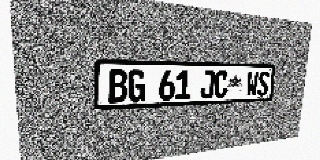1: (175, 70, 191, 100)
6: (159, 70, 175, 101)
B: (108, 69, 127, 103)
C: (214, 71, 228, 98)
G: (128, 70, 146, 102)
J: (200, 70, 215, 99)
S: (257, 71, 270, 96)
W: (246, 71, 259, 97)
